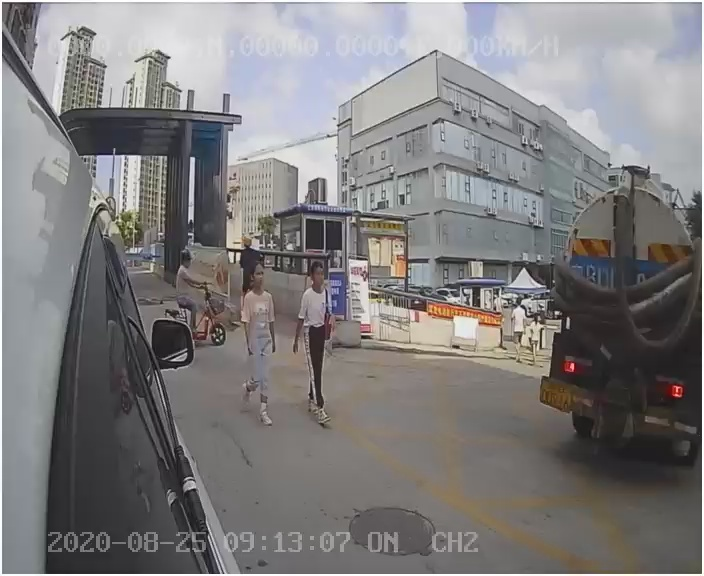person: (288, 257, 350, 434), (236, 259, 285, 429)
